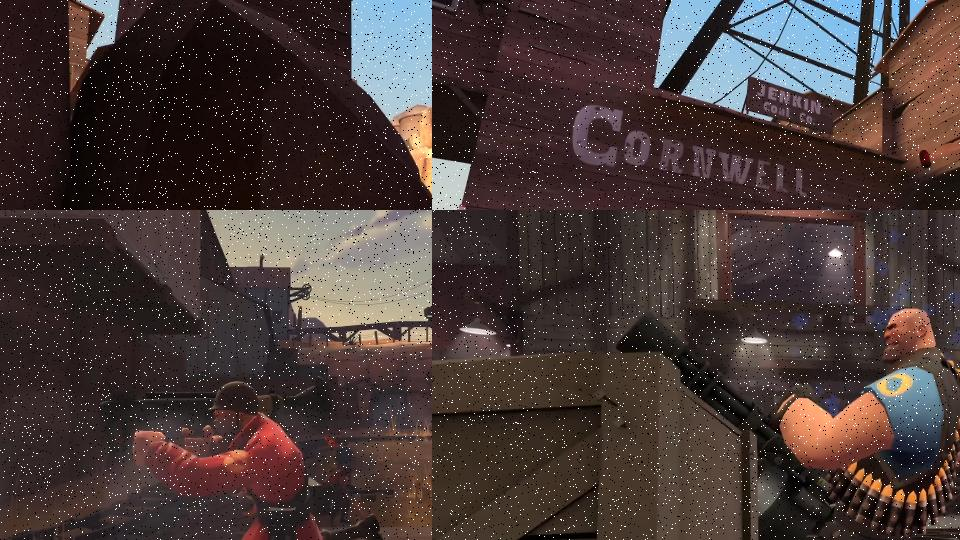Enemy: (613, 304, 960, 540), (99, 376, 386, 540), (323, 463, 395, 528), (334, 441, 355, 481)
